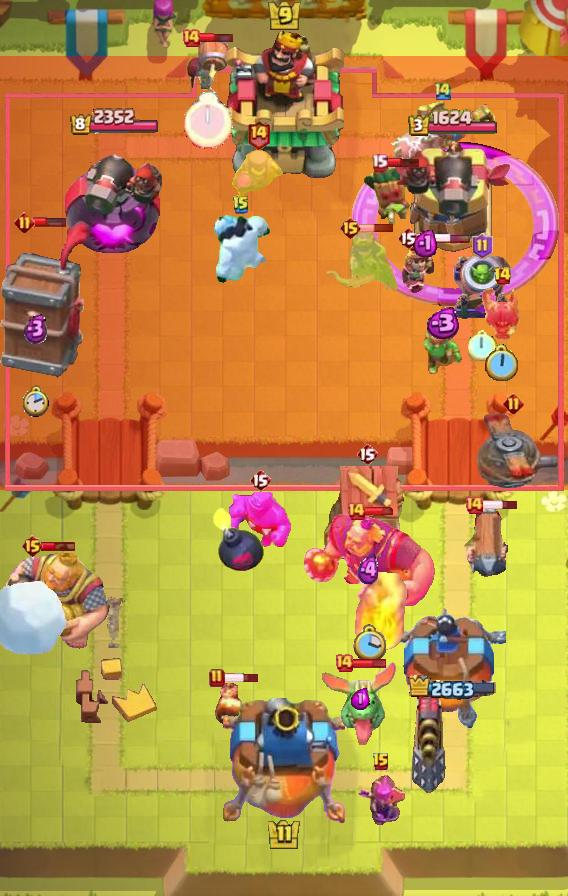baby-dragon: (211, 505, 265, 573)
barbarian-hut: (324, 230, 402, 298)
battle-healer: (464, 507, 512, 583)
bomber: (213, 682, 245, 730)
bomber-evolution: (400, 241, 452, 297)
dark-prince: (450, 411, 568, 497)
dart-goblin: (1, 220, 91, 378)
electro-spirit: (422, 307, 462, 339), (357, 554, 381, 586), (24, 312, 48, 343), (413, 227, 437, 256), (351, 686, 370, 710)
electro-wizard: (319, 659, 401, 745)
elixir: (183, 92, 233, 149), (485, 344, 520, 384), (352, 624, 386, 664), (468, 329, 497, 361), (22, 386, 49, 419)
emote: (417, 232, 471, 244), (199, 32, 234, 45), (482, 499, 519, 511), (223, 672, 260, 684), (41, 540, 77, 552), (33, 216, 67, 228), (385, 157, 421, 168), (352, 658, 387, 669), (359, 223, 394, 233), (364, 506, 396, 516)
evolution-symbol: (356, 773, 406, 829)
fisherman: (100, 596, 126, 648)
freeze: (390, 97, 496, 167)
giant-skeleton: (0, 549, 112, 653)
giant-snowball: (420, 326, 462, 376)
goblin-barrel: (362, 161, 420, 227)
goblin-cage: (450, 252, 514, 322)
golden-knight: (481, 284, 523, 344)
golem: (404, 678, 452, 796)
king-tower: (224, 29, 344, 181), (223, 698, 345, 826)
knight: (184, 37, 232, 103)
knight-evolution: (352, 142, 560, 306)
lightning: (301, 514, 438, 614)
queen-tower: (400, 603, 506, 731)
rage: (209, 214, 273, 286)
rascal-girl: (230, 148, 286, 206)
selected: (407, 110, 499, 139), (68, 108, 159, 137), (408, 674, 498, 701)
sparky: (324, 465, 410, 563)
text: (245, 119, 270, 150), (338, 216, 361, 240), (20, 534, 43, 558), (472, 233, 493, 259), (397, 226, 419, 250), (356, 442, 378, 466), (249, 468, 271, 492), (14, 211, 35, 233), (504, 393, 525, 415), (433, 79, 453, 100), (181, 28, 201, 48), (464, 495, 484, 515), (346, 501, 366, 521), (334, 653, 354, 673), (493, 266, 512, 286), (232, 195, 250, 215), (372, 752, 390, 772), (371, 153, 389, 172), (209, 668, 225, 688)
tornado: (229, 488, 291, 548)
tower-bar: (392, 138, 514, 256), (64, 138, 164, 256)
valkyrie: (349, 569, 407, 655)
wall-breaker: (0, 579, 68, 657)
